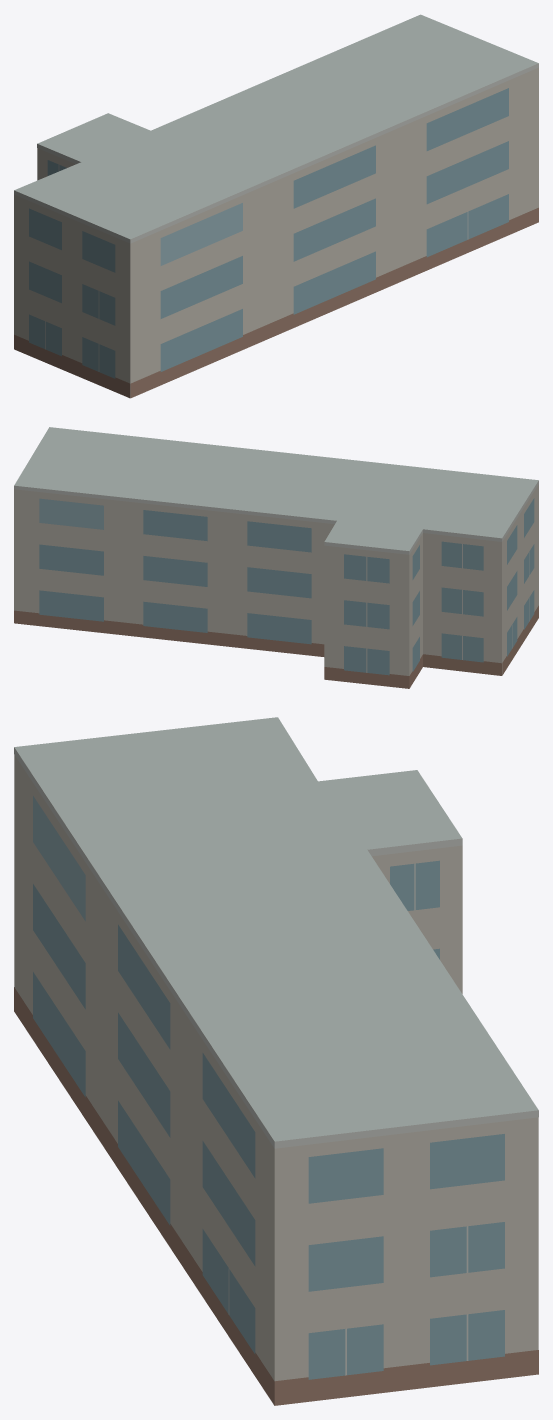
File: survey-upis-32675855.glb
3 renders of one model, top to bottom at view 1: azimuth 30°, elevation 25°; view 2: azimuth 150°, elevation 25°; view 3: azimuth 270°, elevation 25°, orthographic. The views are drawn at different scales.
Visible parts, largest first — view 1: survey-upis-32675855.tmp; view 2: survey-upis-32675855.tmp; view 3: survey-upis-32675855.tmp.
Part boxes in pixels (<box>): survey-upis-32675855.tmp: <box>14,14,538,398</box>; survey-upis-32675855.tmp: <box>14,427,538,688</box>; survey-upis-32675855.tmp: <box>14,717,538,1405</box>.
Bounding box in the file's own units: 31.55 × 9.15 × 16.48.
